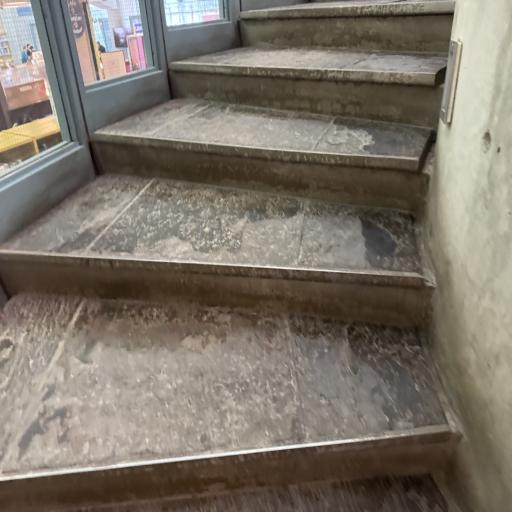Stairs: (0, 0, 460, 512), (0, 294, 457, 511), (0, 174, 433, 325), (93, 98, 433, 212), (170, 46, 447, 128), (63, 476, 449, 512), (240, 0, 455, 54)
